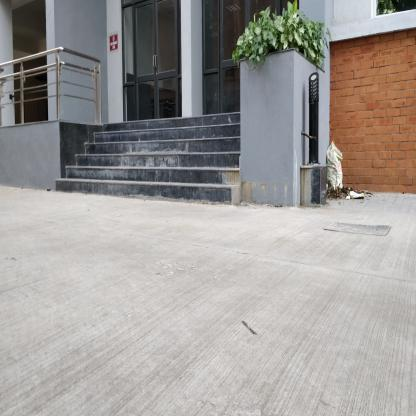stairs: (95, 121, 240, 210)
